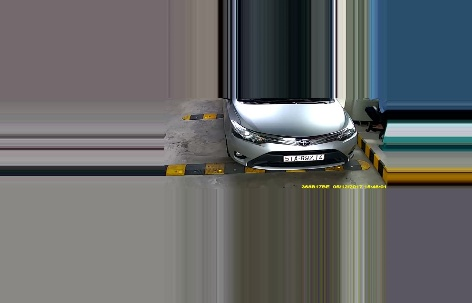plate: (283, 149, 325, 164)
